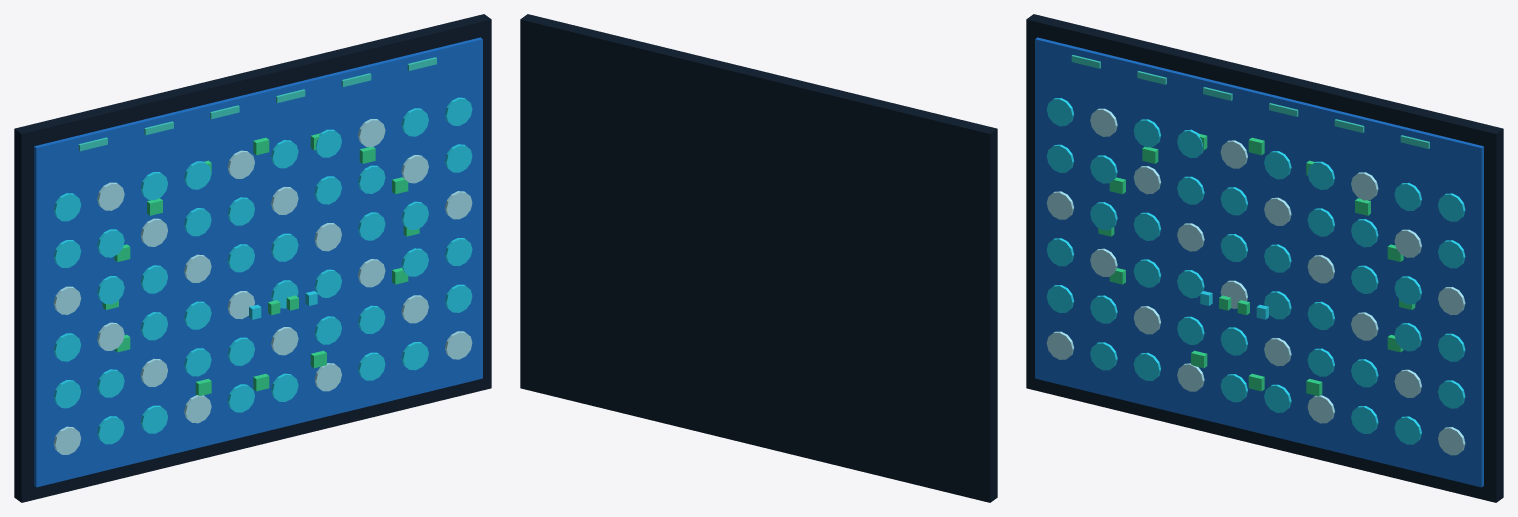
Rendered from 25_L78_CapDepositionUniformityMonitor.fbx.
3 views of the same model, side by side, from view 1: azimuth 30°, elevation 25°; view 2: azimuth 150°, elevation 25°; view 3: azimuth 330°, elevation 25° (orthographic).
Visible parts, largest first — view 1: CapDepositionUniformityMonitor; view 2: CapDepositionUniformityMonitor; view 3: CapDepositionUniformityMonitor.
Part boxes in pixels (x1,y1,x2,y2): CapDepositionUniformityMonitor: [14, 14, 491, 502]; CapDepositionUniformityMonitor: [520, 14, 997, 502]; CapDepositionUniformityMonitor: [1026, 14, 1503, 502].
Size of the model in its own units: 200 by 150 by 26.45.
